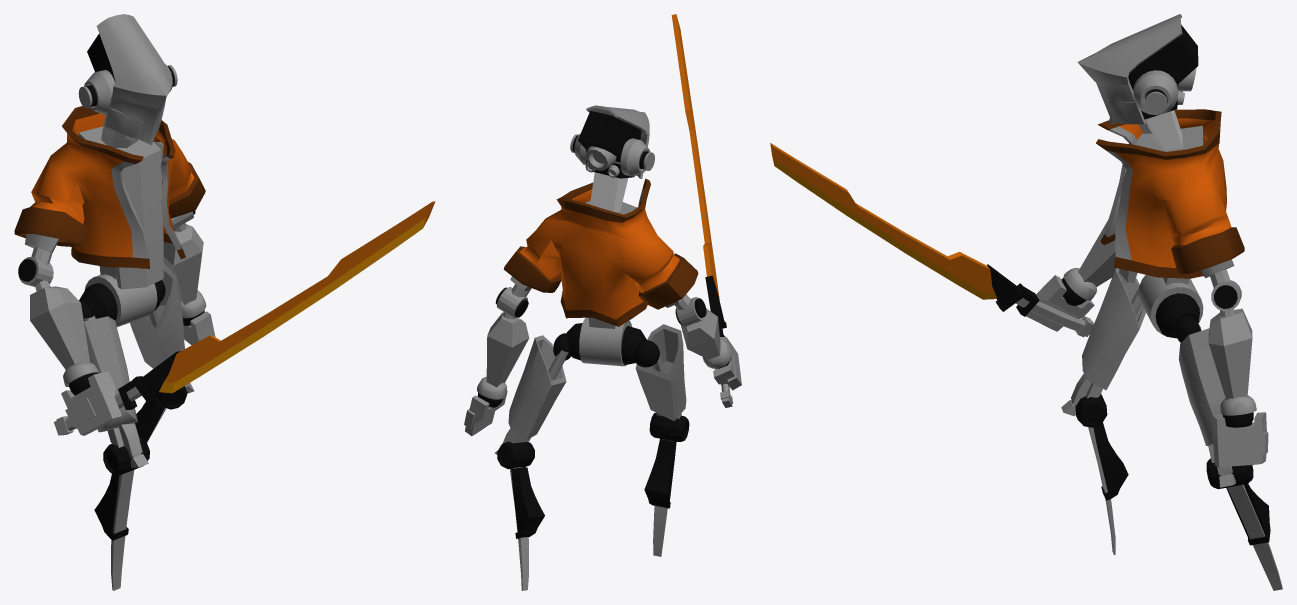
File: Character.obj
3 views of the same model, side by side, from view 1: azimuth 30°, elevation 25°; view 2: azimuth 150°, elevation 25°; view 3: azimuth 270°, elevation 25° (orthographic). The views are drawn at different scales.
Parts seen in each view (by area): view 1: Cube.009_Cube.014, Cube.007_Cube.025, Sword_Cube.027; view 2: Cube.009_Cube.014, Cube.007_Cube.025, Sword_Cube.027, Cube.000; view 3: Cube.009_Cube.014, Cube.007_Cube.025, Sword_Cube.027, Cube.000.
Boxes of the visible parts, <box> form: Cube.009_Cube.014: <box>18,14,215,590</box>; Cube.007_Cube.025: <box>14,106,205,268</box>; Sword_Cube.027: <box>54,201,435,435</box>; Cube.009_Cube.014: <box>464,105,741,590</box>; Cube.007_Cube.025: <box>503,178,698,326</box>; Sword_Cube.027: <box>671,14,732,407</box>; Cube.000: <box>590,172,628,212</box>; Cube.009_Cube.014: <box>1026,14,1282,590</box>; Cube.007_Cube.025: <box>1096,109,1244,278</box>; Sword_Cube.027: <box>770,143,1093,337</box>; Cube.000: <box>1138,110,1182,150</box>.
Size of the model in its own units: 0.6109 by 1.37 by 1.16.
